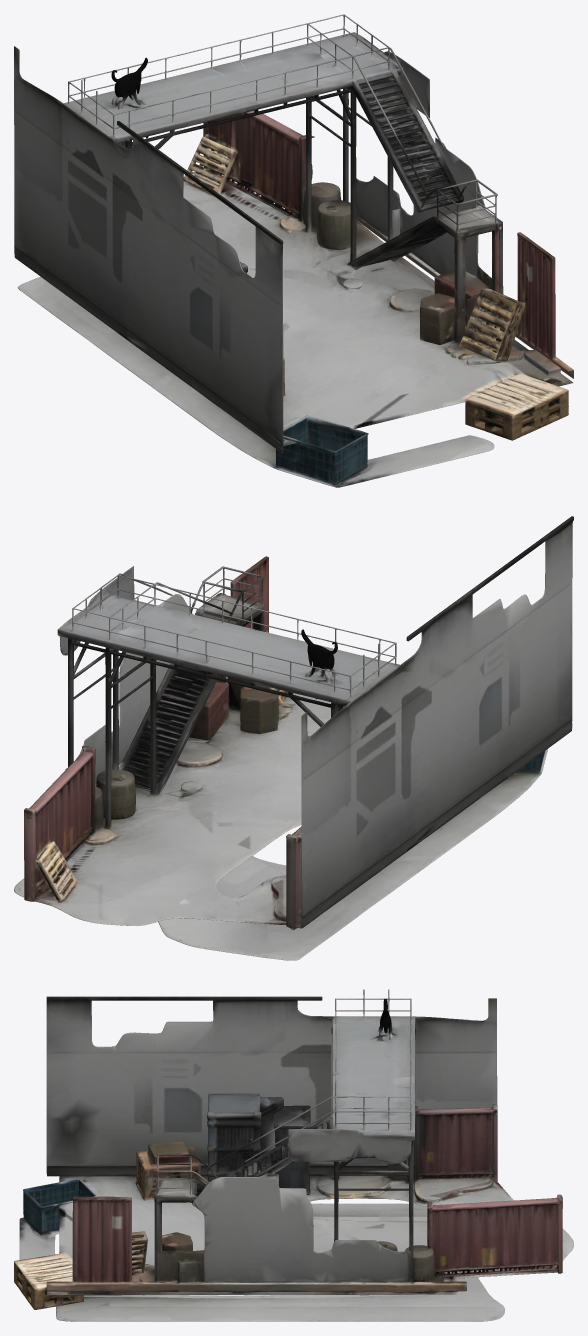
File: yard-visual-m.glb
3 renders of one model, top to bottom at view 1: azimuth 30°, elevation 25°; view 2: azimuth 150°, elevation 25°; view 3: azimuth 270°, elevation 25°, orthographic. The views are drawn at different scales.
Parts seen in each view (by area): view 1: node_0; view 2: node_0; view 3: node_0.
Boxes of the visible parts, <box> form: node_0: <box>14,14,573,487</box>; node_0: <box>14,516,573,960</box>; node_0: <box>14,989,573,1321</box>.
Size of the model in its own units: 0.5408 by 0.4681 by 1.07.
1 material, 1 textured.
